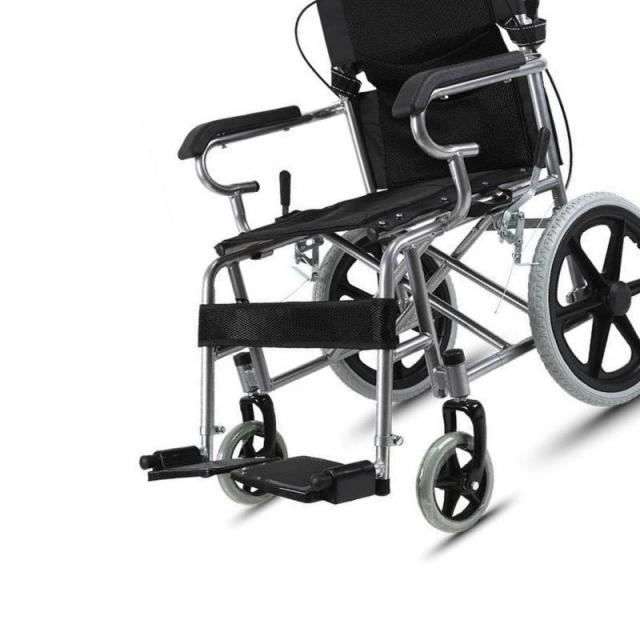wheelchair: (124, 6, 640, 564)
